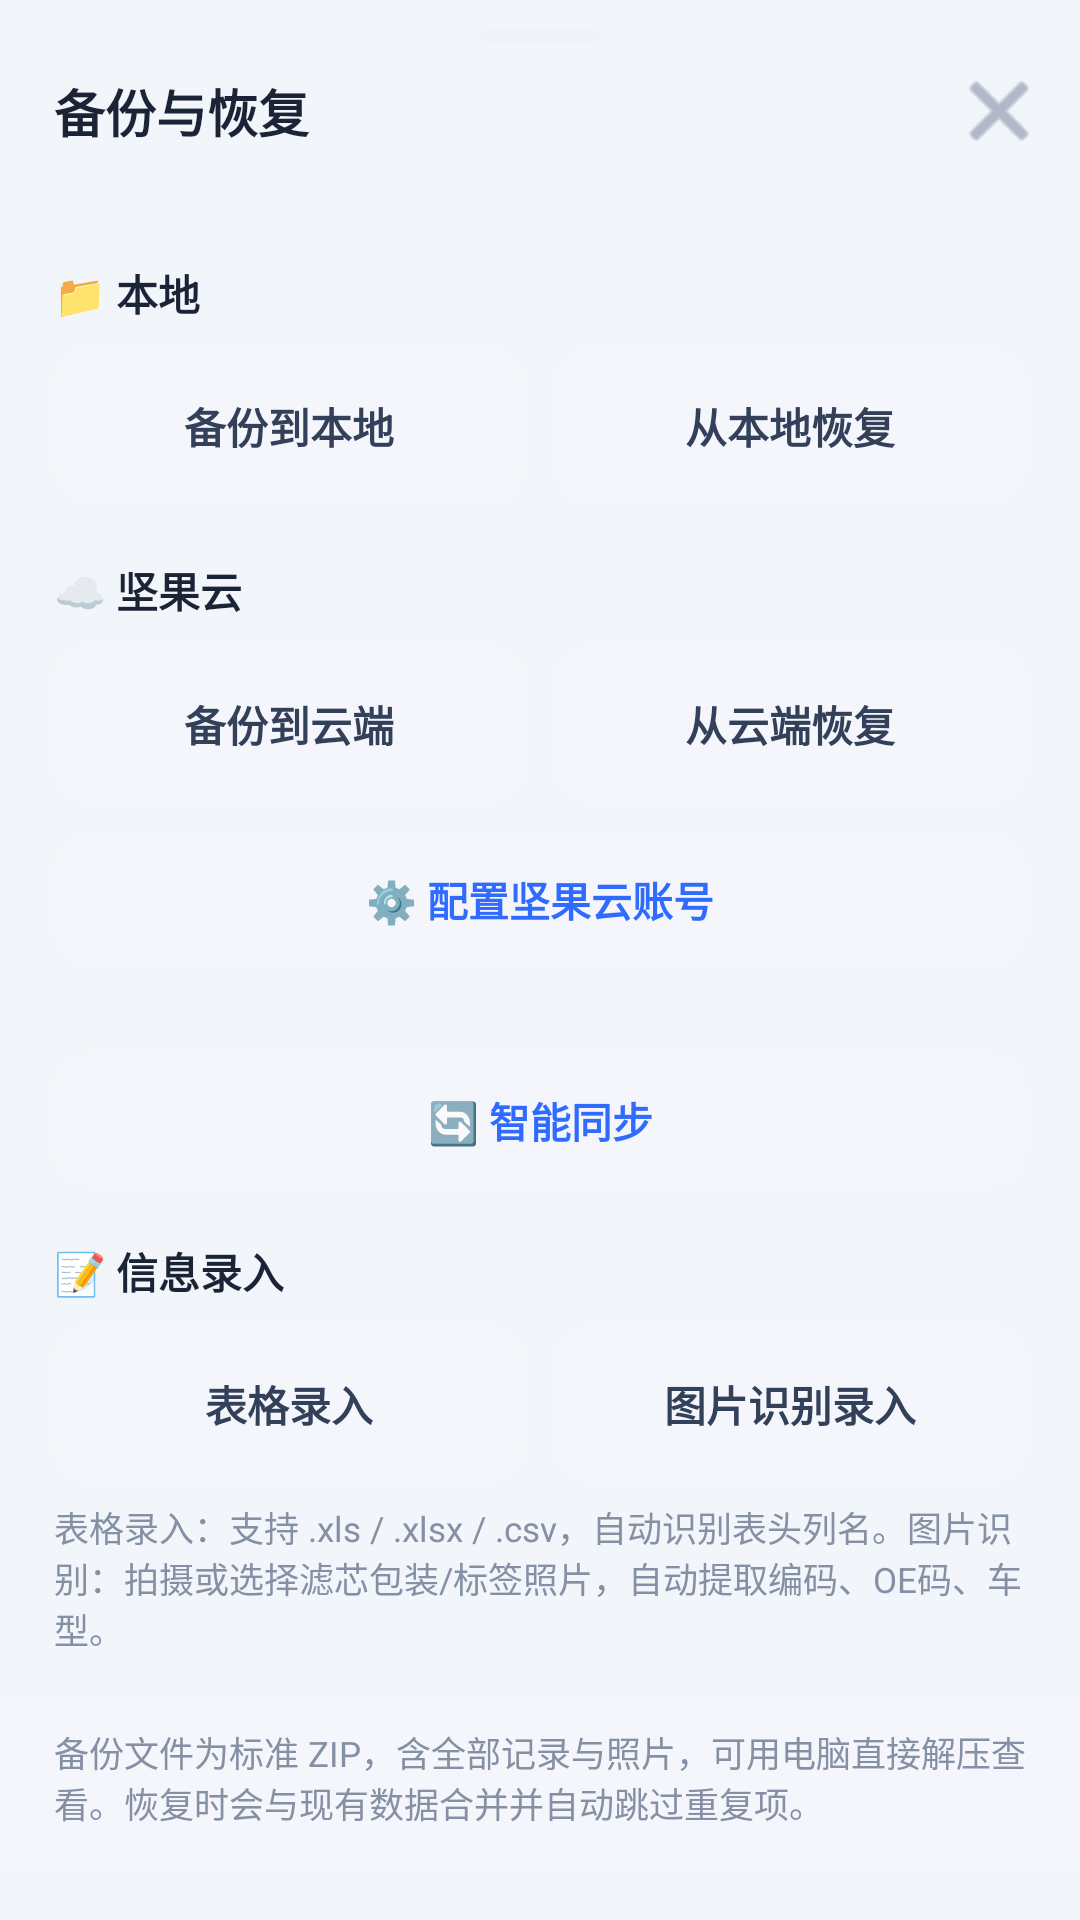

Icons on this 1080*1920 Android screen, each with its box as (x1, y1, x2, y2):
关闭: (970, 82, 1028, 140)
